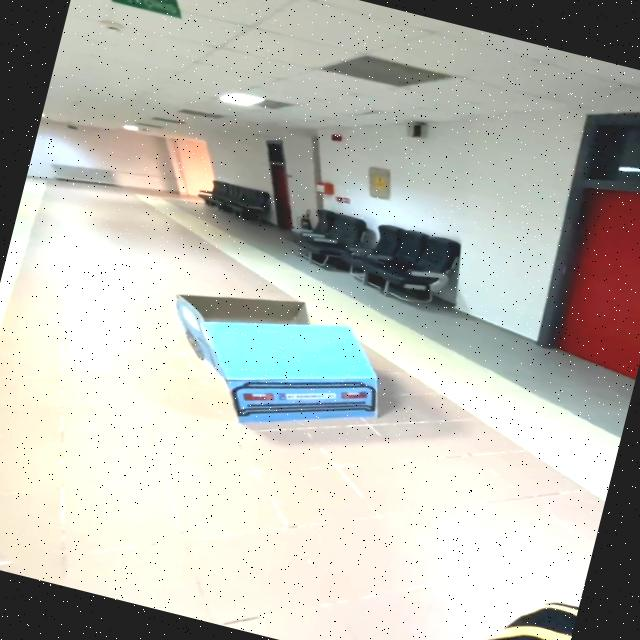blue_car: (130, 260, 429, 472)
